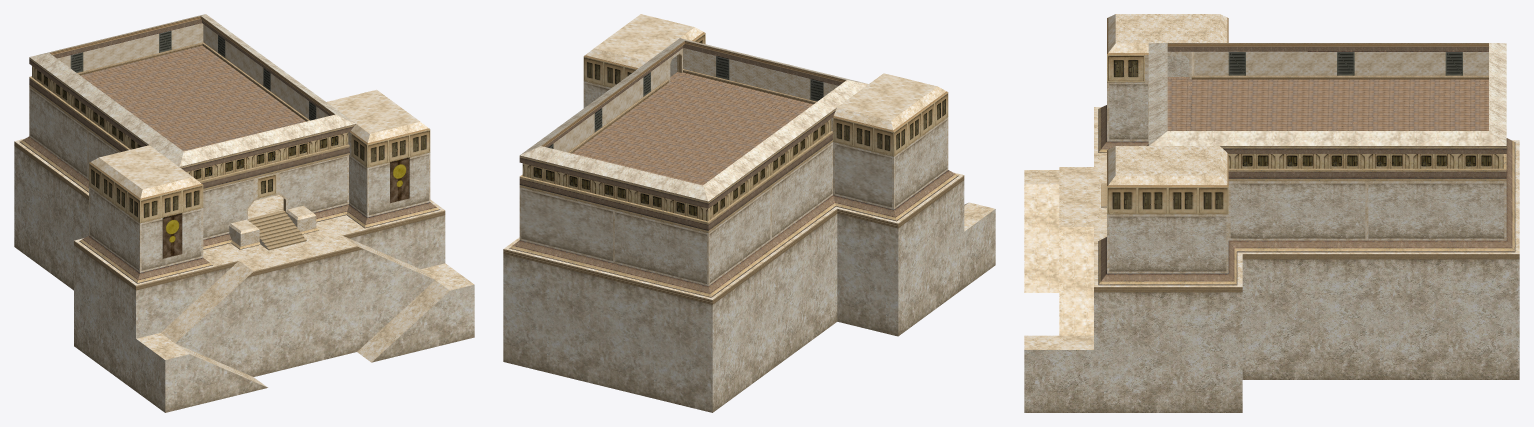
The model's file is ply_tato_assoc_hall_civ_s01_r0_exterior_mesh_exterior_l1.fbx.
The picture shows the model from 3 angles, left to right: view 1: azimuth 30°, elevation 25°; view 2: azimuth 150°, elevation 25°; view 3: azimuth 270°, elevation 25°; orthographic projection. The views are drawn at different scales.
Parts seen in each view (by area): view 1: mesh_node; view 2: mesh_node; view 3: mesh_node.
Boxes of the visible parts, x1,y1,x2,y2 form: mesh_node: (14,14,474,412); mesh_node: (503,14,995,412); mesh_node: (1024,14,1519,412).
Size of the model in its own units: 49 by 30 by 57.
